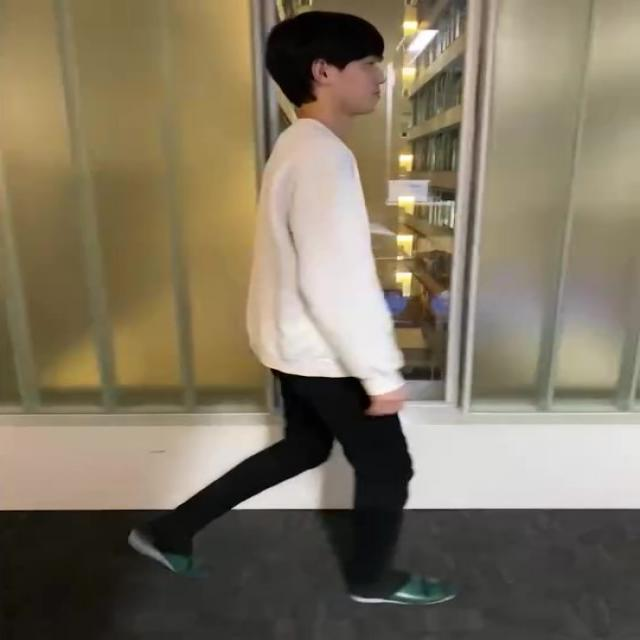direk: (120, 11, 460, 612)
